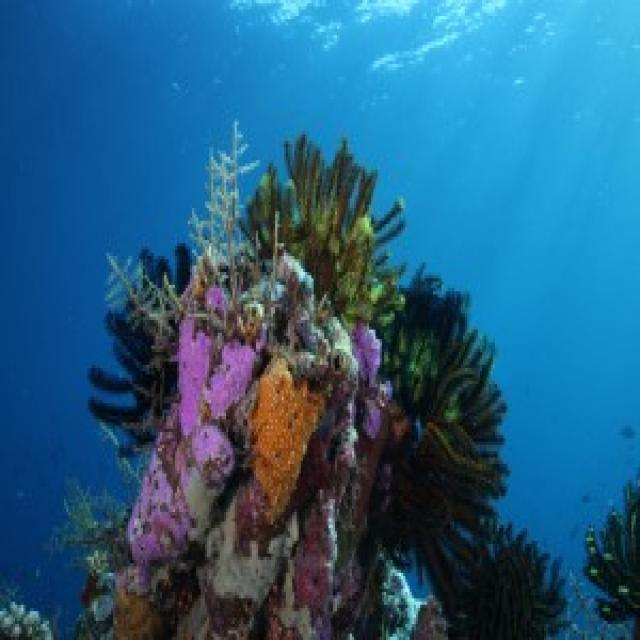Bleached: (199, 128, 254, 266)
Healthy: (392, 274, 504, 535), (254, 133, 407, 319)
